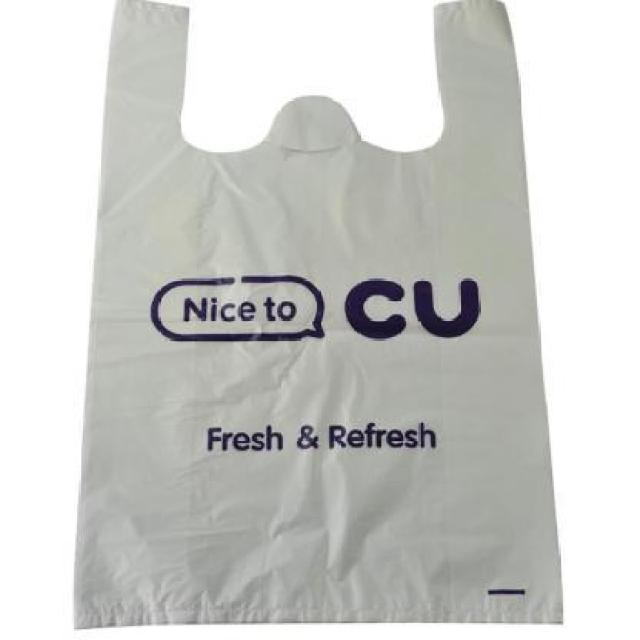plastic bag: (67, 0, 583, 635)
